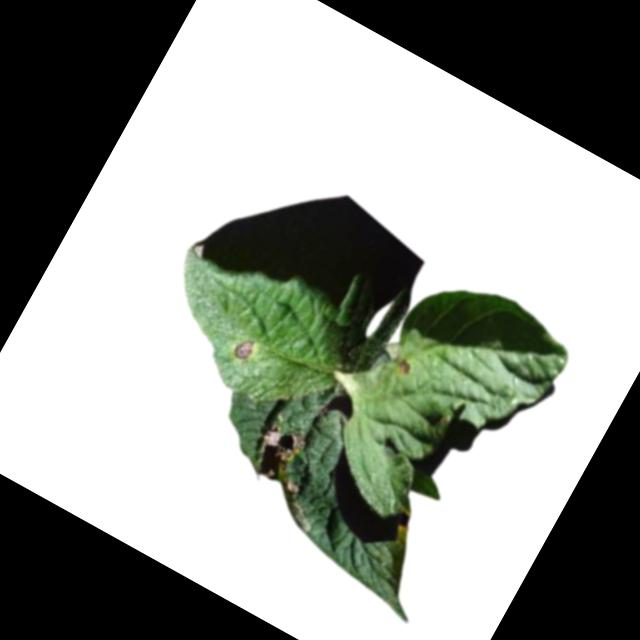Early_blight: (244, 418, 311, 490), (231, 336, 255, 363), (394, 359, 413, 378)
